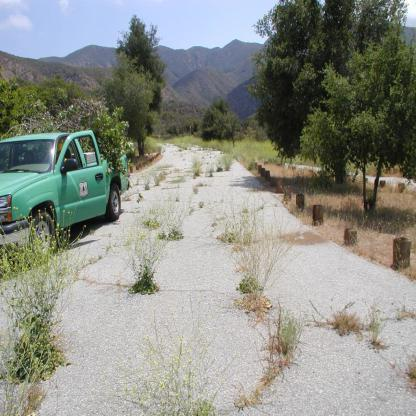Truck: (0, 134, 130, 265)
